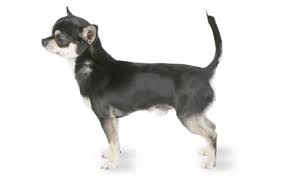chihuahua: (42, 5, 224, 170)
